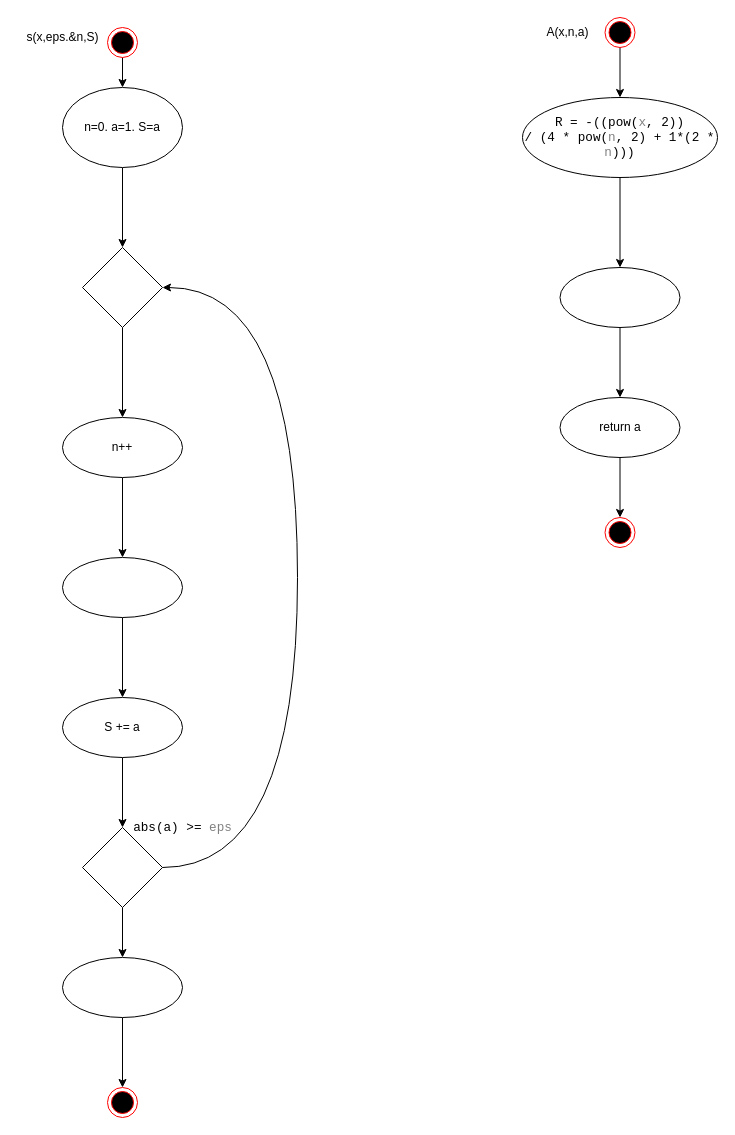
Some shapes in this 735 by 1135 pixel diagram are drawn without their labels. Each missing label, with the centre of its shape:
"a *= R" belongs at point (619, 297).
"A( x , n , a)" belongs at point (122, 587).
"return S" belongs at point (122, 987).
